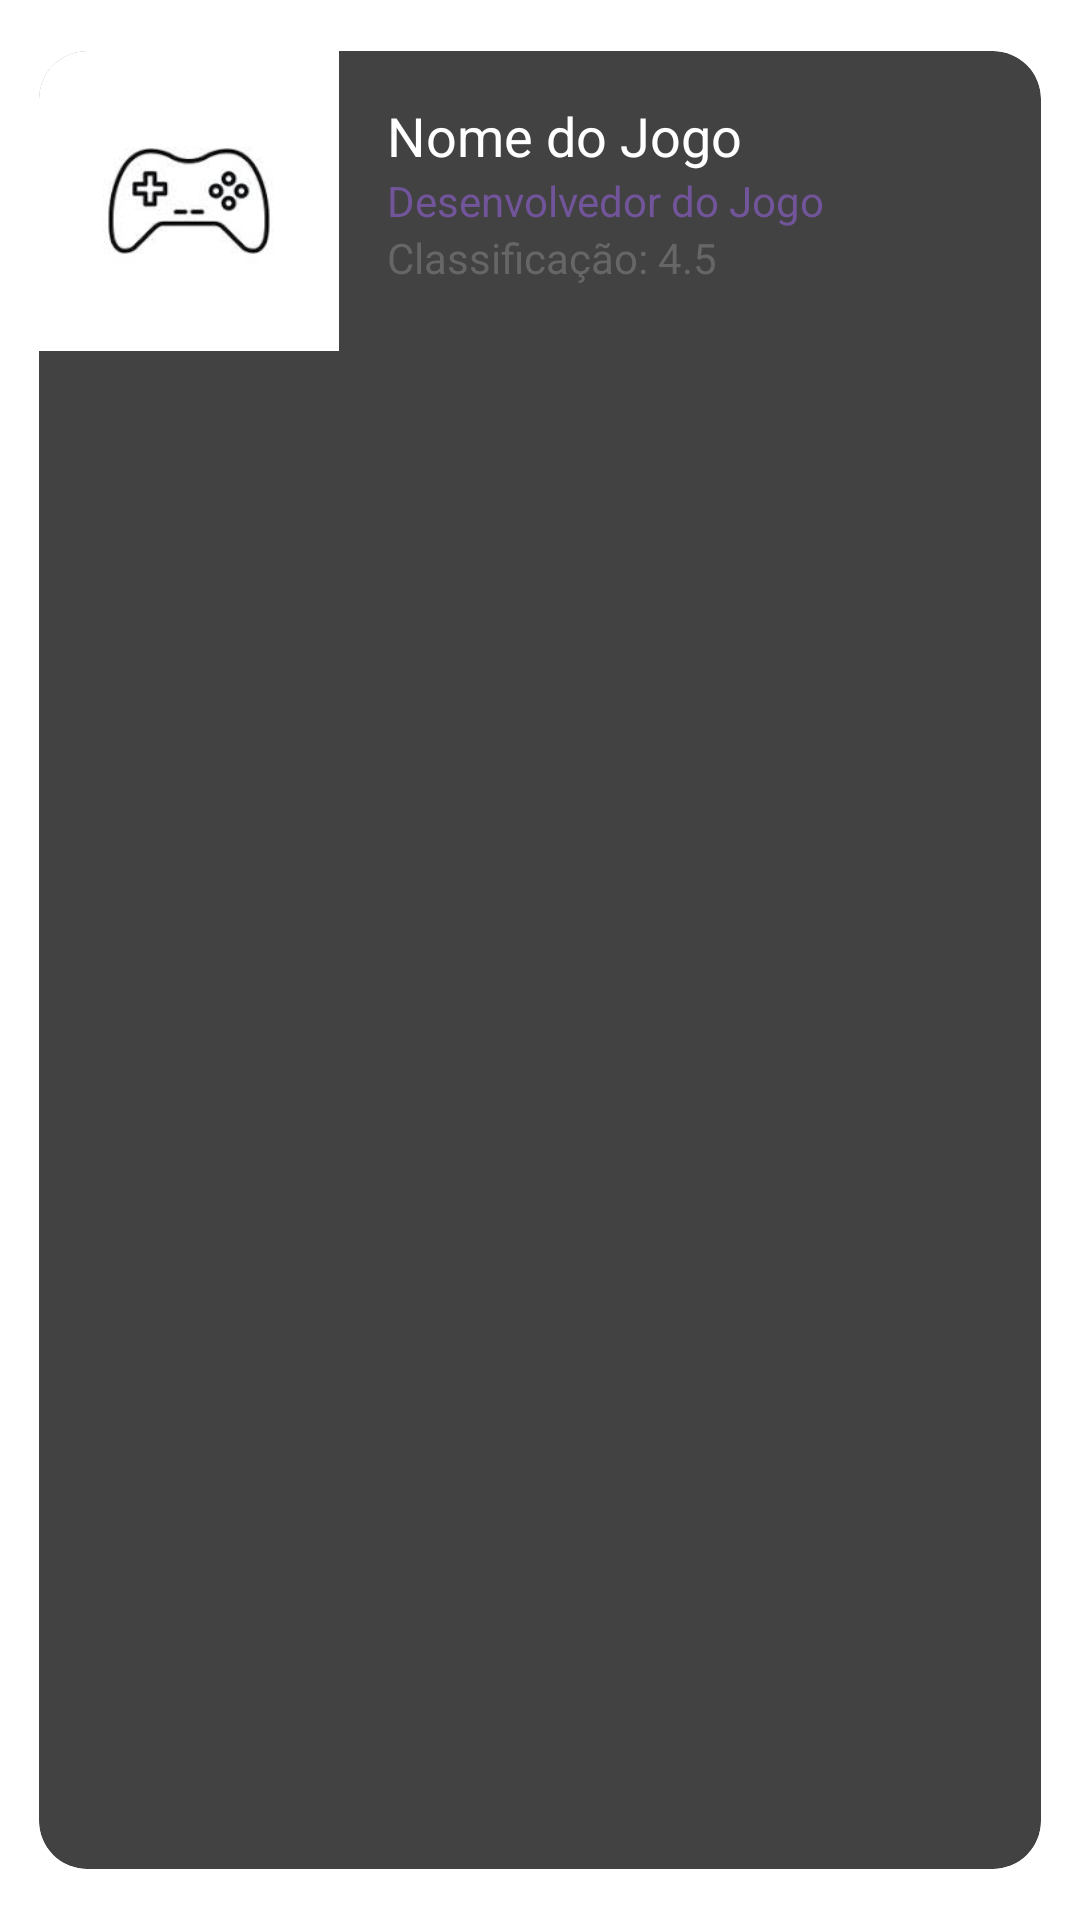

Icons on this 1080px×1920px Android screen, each with its box as (x1, y1, x2, y2):
game: (39, 51, 270, 254)
